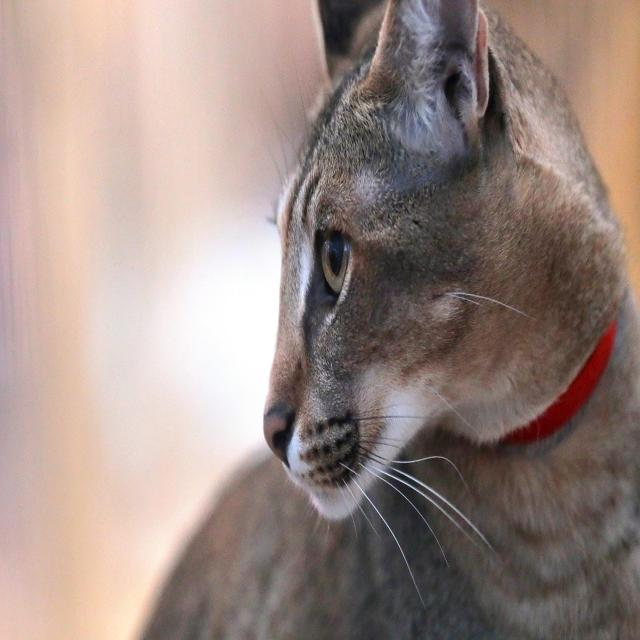Cat: (255, 1, 516, 543)
